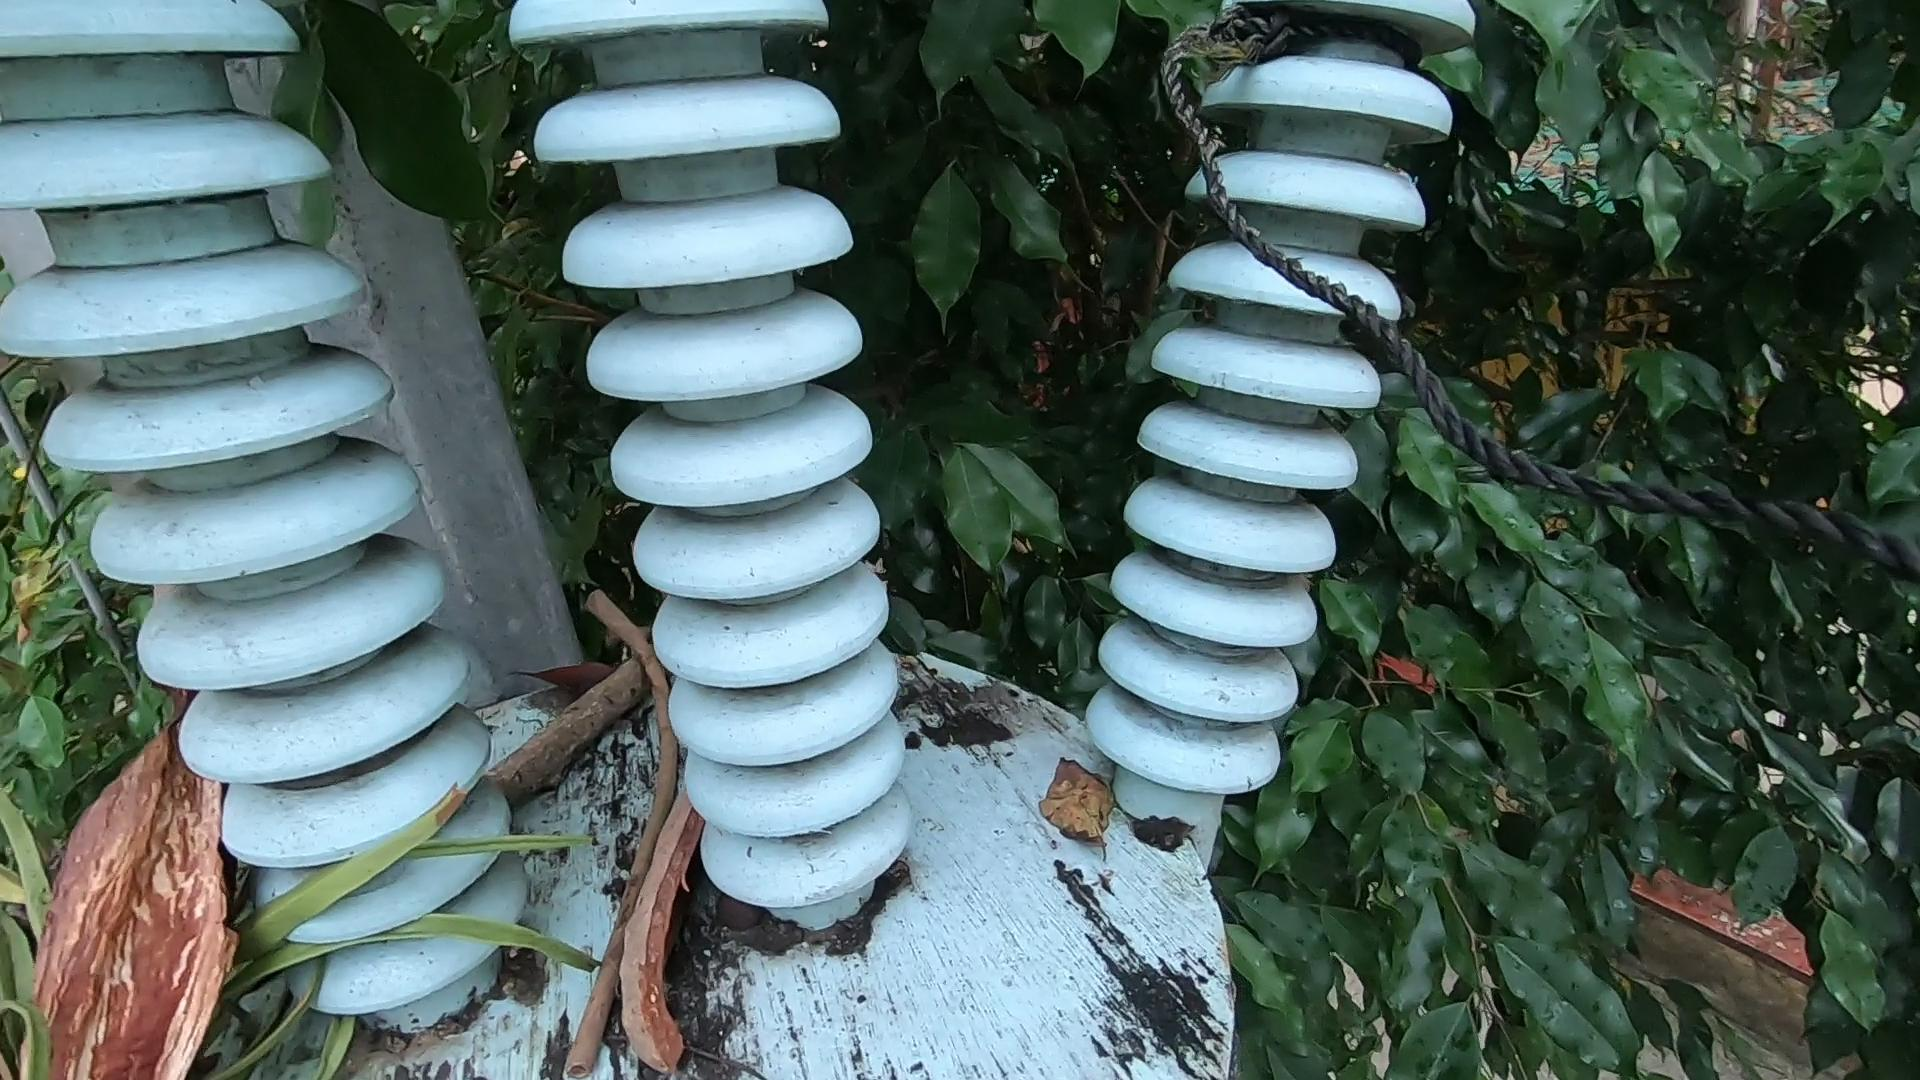branch with leaves: (40, 556, 659, 1080)
leaf: (1056, 727, 1137, 898)
mahogany fruit: (53, 736, 280, 1073), (647, 796, 795, 1046)
tree branch: (597, 556, 659, 1080)
